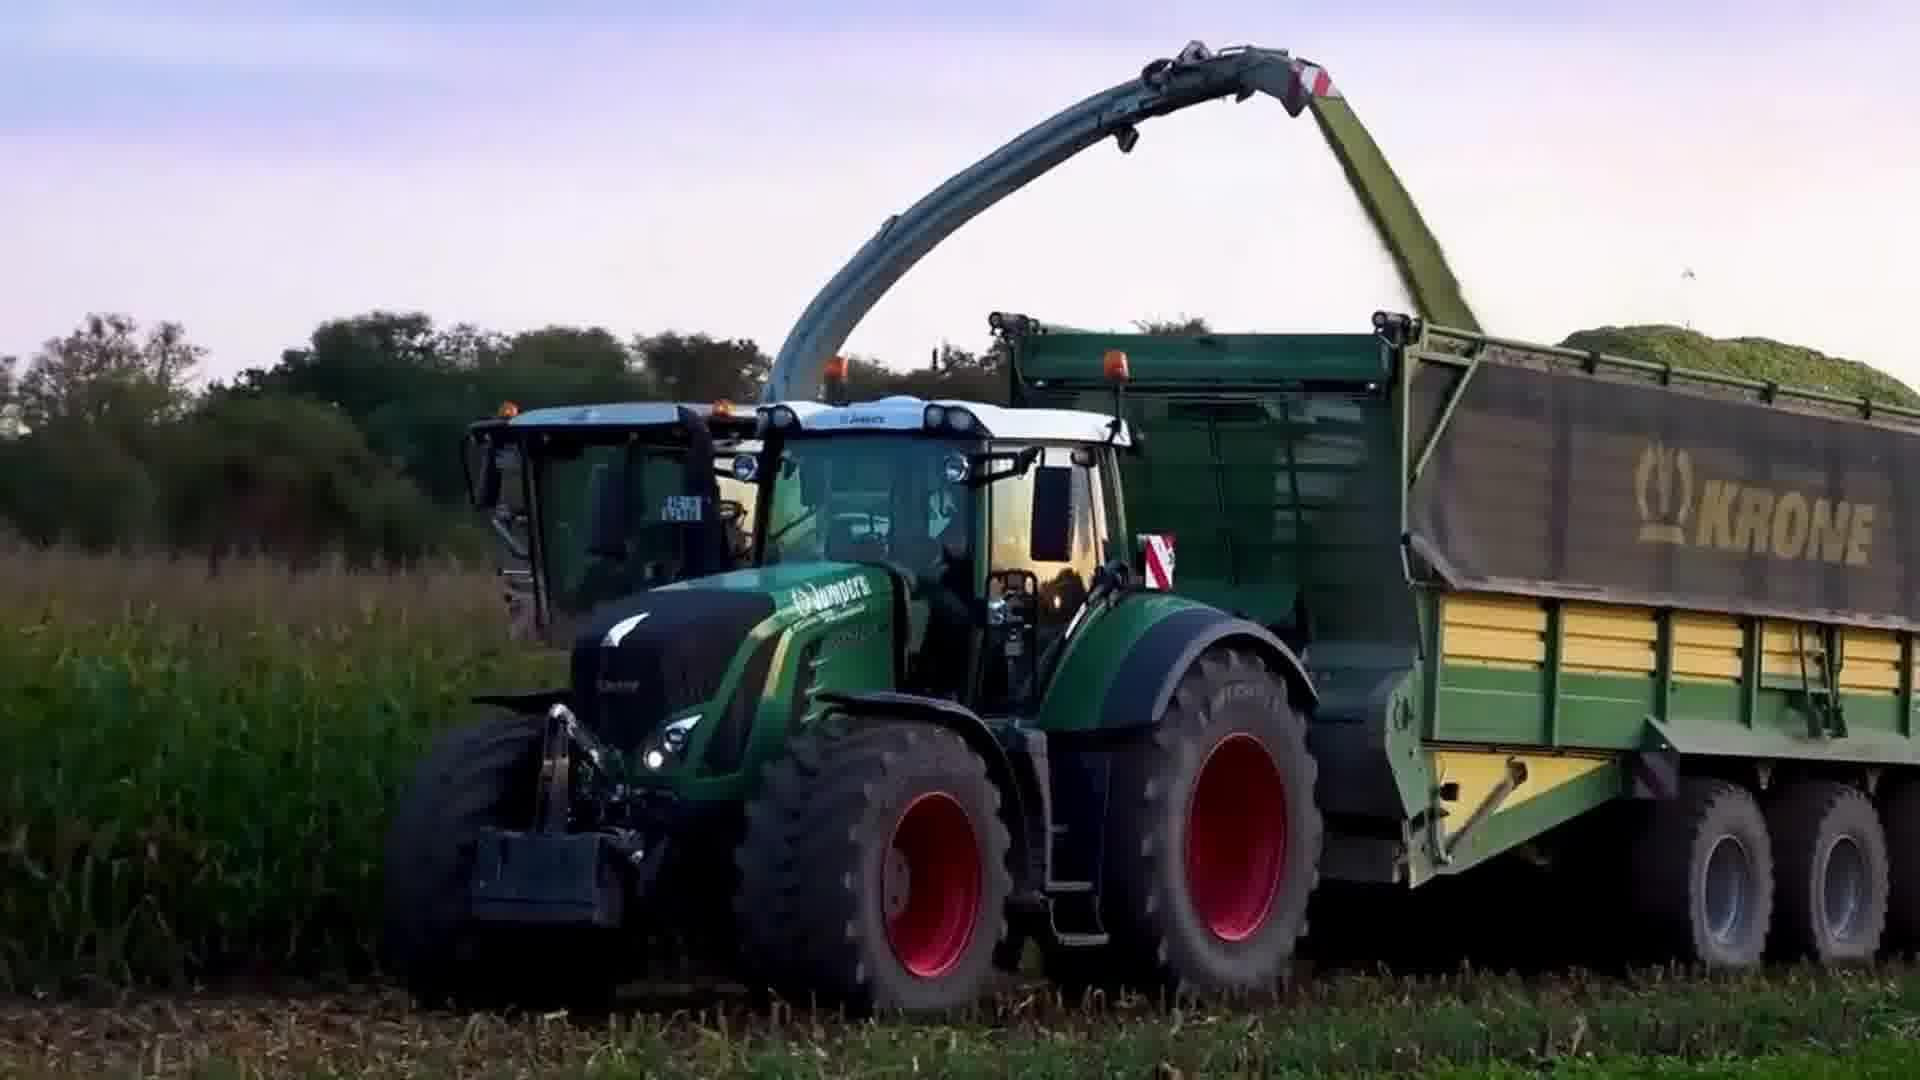combine harvester: (451, 25, 1349, 696)
tractor: (371, 359, 1346, 1026)
trailer: (981, 305, 1920, 989)
